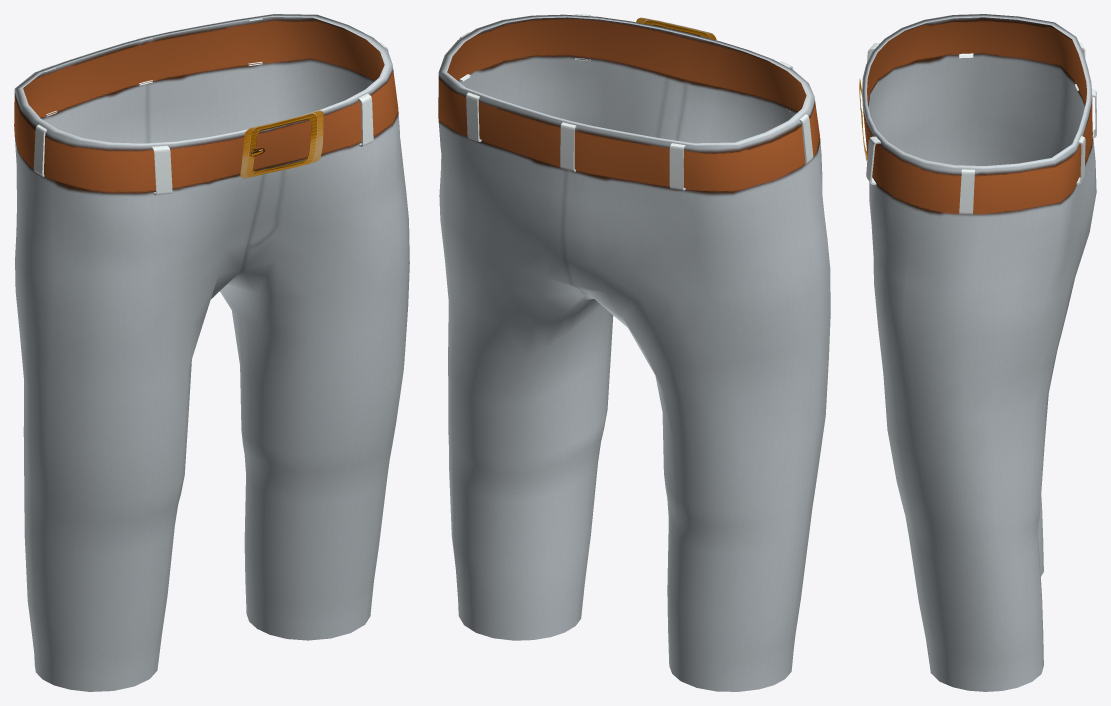
File: lower cloth 06.glb
3 views of the same model, side by side, from view 1: azimuth 30°, elevation 25°; view 2: azimuth 150°, elevation 25°; view 3: azimuth 270°, elevation 25° (orthographic). The views are drawn at different scales.
Visible parts, largest first — view 1: lower_cloth_06; view 2: lower_cloth_06; view 3: lower_cloth_06.
Boxes of the visible parts, box(x1,y1,x2,y2) form: lower_cloth_06: box(14, 14, 409, 691); lower_cloth_06: box(438, 14, 830, 691); lower_cloth_06: box(859, 14, 1096, 691).
Bounding box in the file's own units: 0.00485 × 0.00712 × 0.00288.
Materials: 2 (2 with a texture image).
